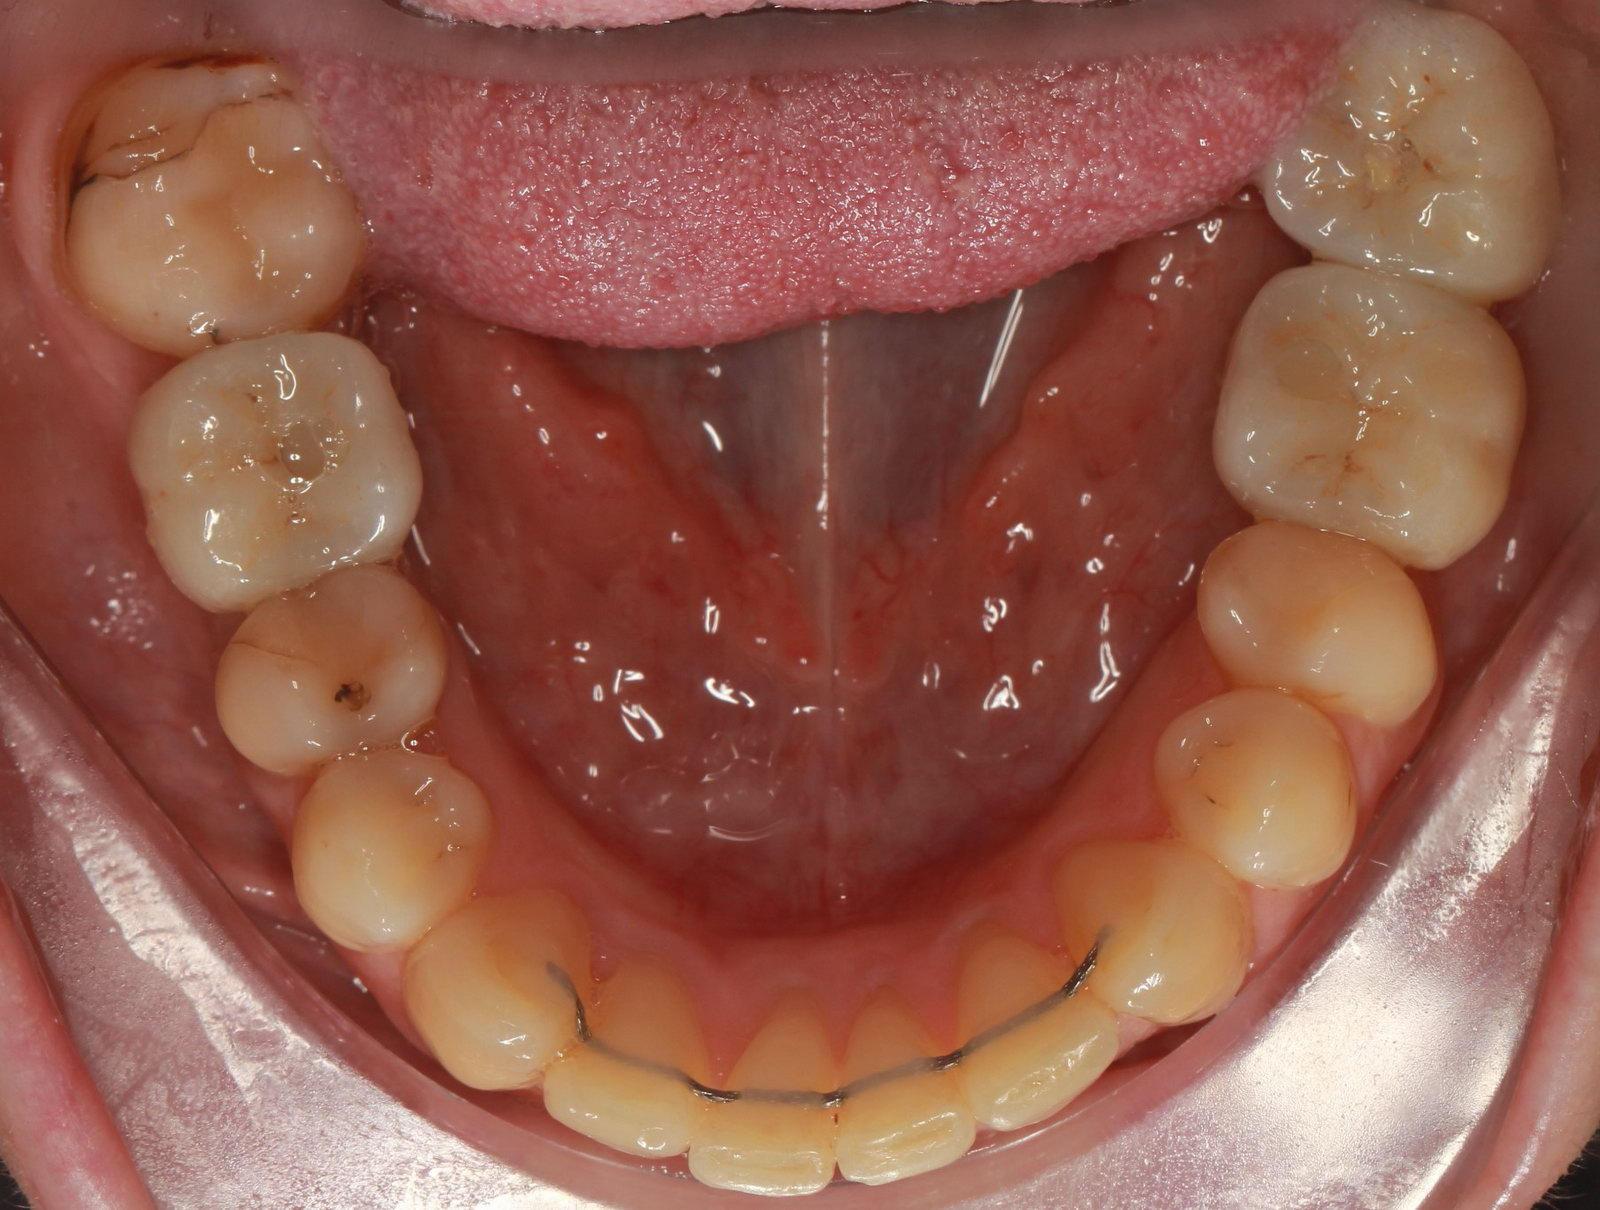LL1BC_healthy: (1151, 683, 1360, 891)
LL1M_decay: (1212, 264, 1526, 564)
LL2BC_healthy: (1191, 522, 1442, 735)
LL2M_decay: (1252, 1, 1562, 306)
LLCI_decay: (829, 1002, 980, 1197)
LLC_decay: (1059, 835, 1259, 1032)
LLLI_decay: (954, 930, 1129, 1132)
LR1BC_healthy: (277, 744, 493, 958)
LR1M_decay: (116, 336, 421, 614)
LR2BC_decay: (214, 569, 447, 772)
LR2M_decay: (58, 52, 362, 348)
LRCI_decay: (681, 1014, 839, 1210)
LRC_decay: (398, 895, 599, 1093)
LRLI_decay: (541, 965, 710, 1164)
